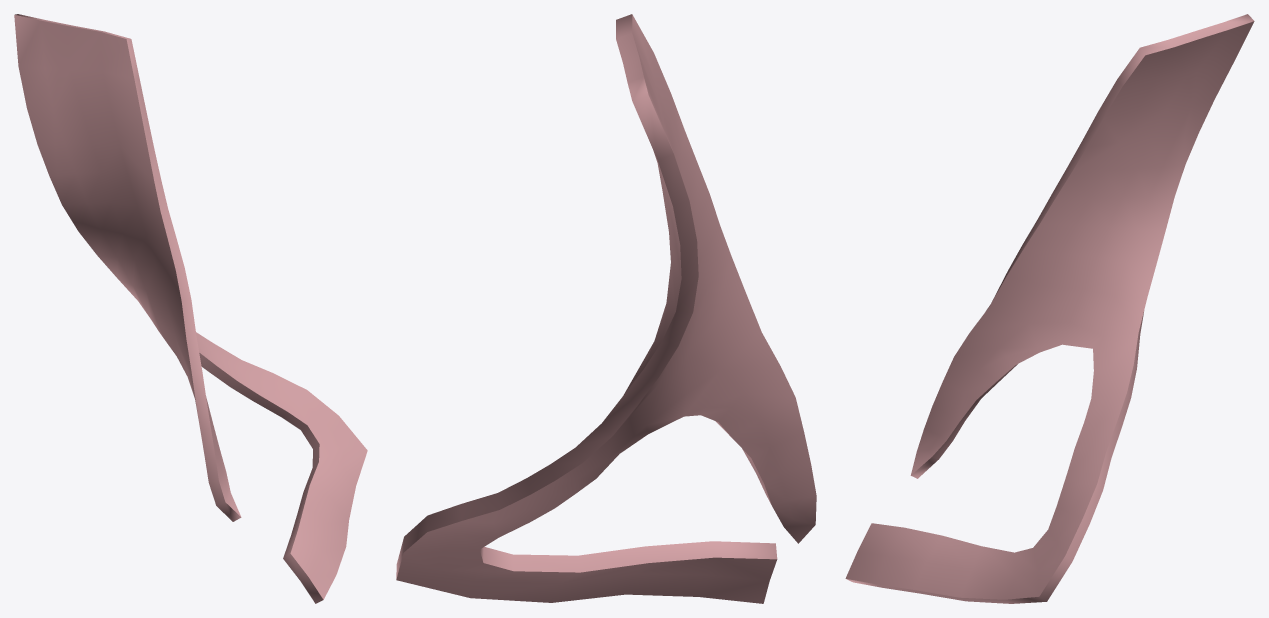
3 views of the same model, side by side, from view 1: azimuth 30°, elevation 25°; view 2: azimuth 150°, elevation 25°; view 3: azimuth 270°, elevation 25° (orthographic). The views are drawn at different scales.
Parts seen in each view (by area): view 1: ZA_03f5ac1fe6a3479e; view 2: ZA_03f5ac1fe6a3479e; view 3: ZA_03f5ac1fe6a3479e.
Part boxes in pixels (x1,y1,x2,y2): ZA_03f5ac1fe6a3479e: (14, 14, 367, 603); ZA_03f5ac1fe6a3479e: (396, 14, 816, 603); ZA_03f5ac1fe6a3479e: (845, 14, 1254, 603).
Size of the model in its own units: 0.0833 by 0.1465 by 0.1067.
